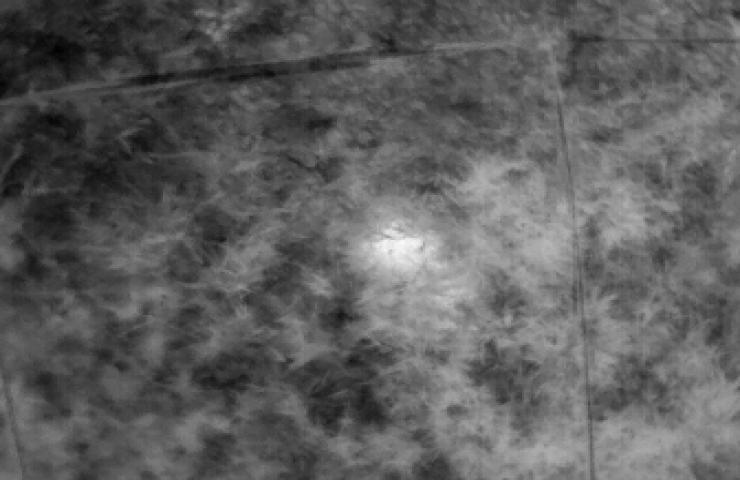landmines: (365, 223, 443, 275)
